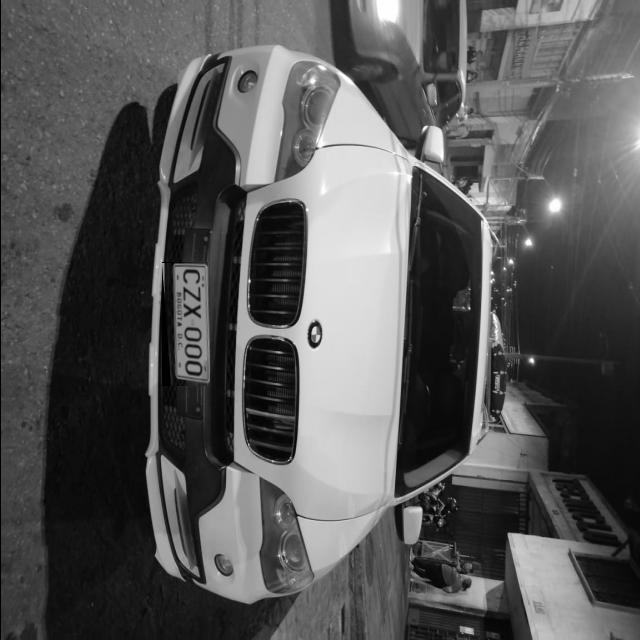plate: (160, 262, 208, 386)
